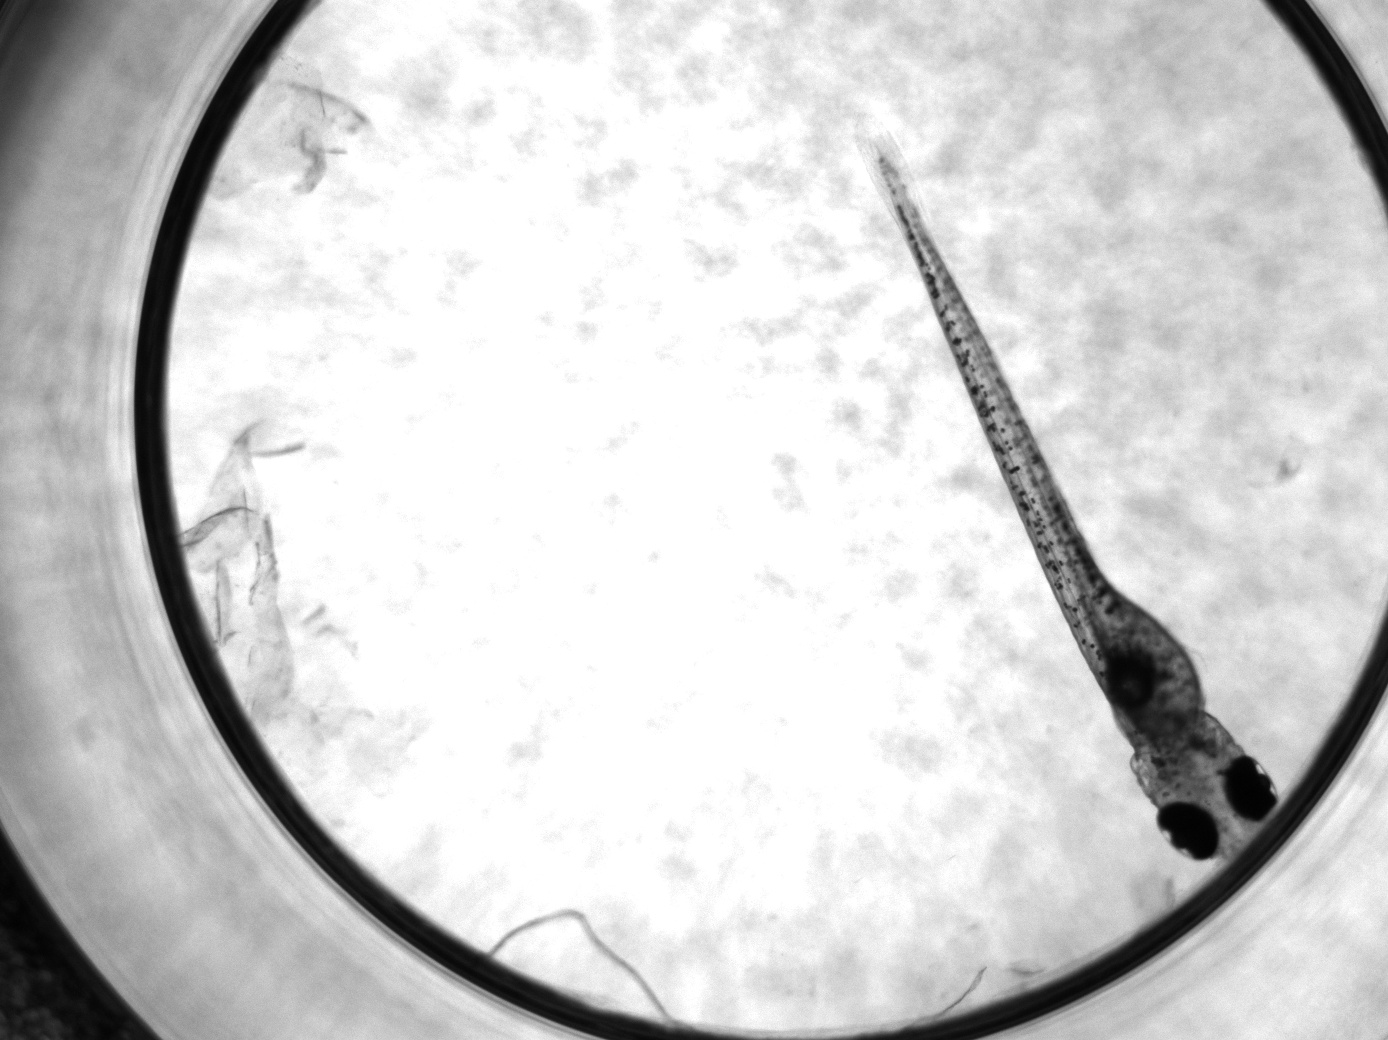debris: (171, 418, 342, 735), (181, 42, 373, 198)
embryo: (875, 157, 1280, 866)
eye: (1156, 801, 1224, 861), (1225, 755, 1280, 822)
yolksac: (1070, 574, 1206, 736)
